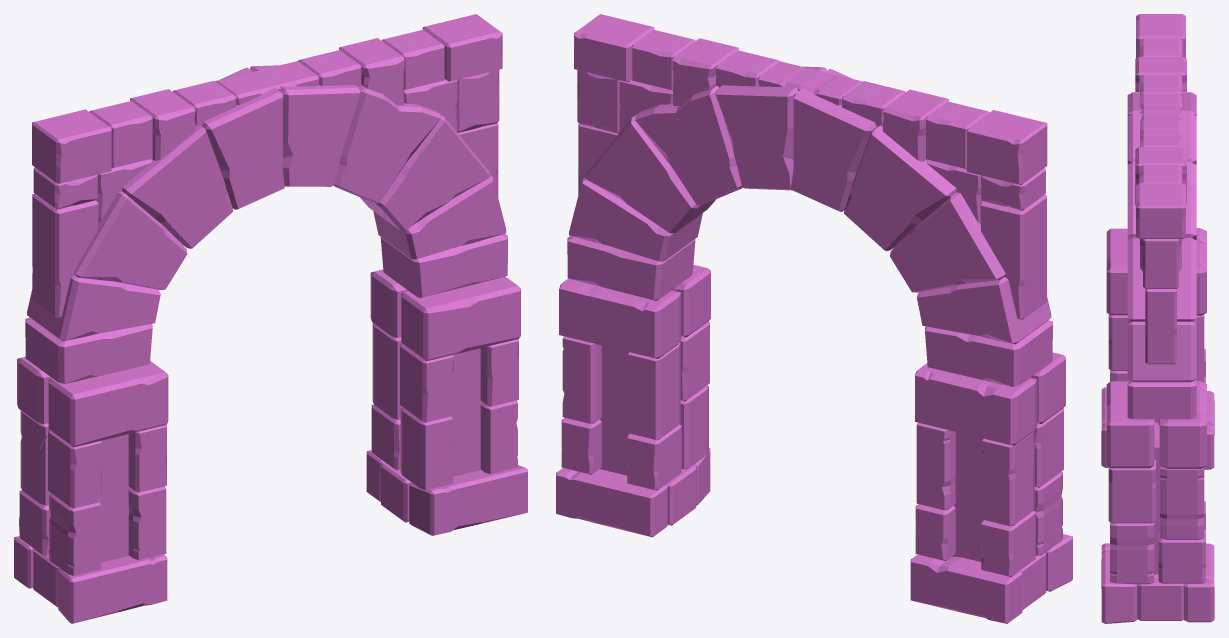
Rendered from Tutorial_mergedarch.fbx.
The picture shows the model from 3 angles, left to right: view 1: azimuth 30°, elevation 25°; view 2: azimuth 150°, elevation 25°; view 3: azimuth 270°, elevation 25°; orthographic projection. The views are drawn at different scales.
Parts seen in each view (by area): view 1: Arch; view 2: Arch; view 3: Arch.
Part boxes in pixels (x1,y1,x2,y2): Arch: (14, 14, 527, 623); Arch: (556, 14, 1072, 623); Arch: (1101, 14, 1214, 623).
Size of the model in its own units: 410 by 401 by 99.26.
